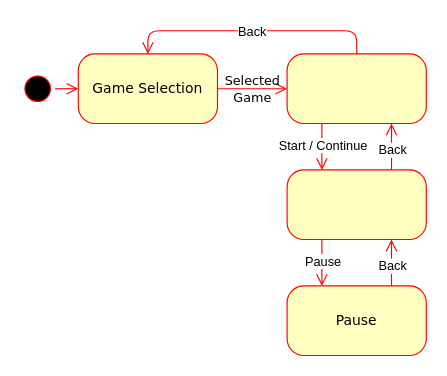
The diagram is 447 pixels wide and 376 high, and some of its shapes have lost their labels. The shapes that lost their labels are listed below. From the top down, each one's box as (x1, y1, x2, y2) in pixels, then its label:
(286, 53, 426, 124): Game Menu
(286, 169, 426, 240): Game
